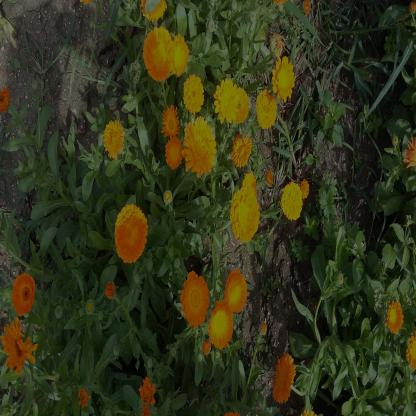marigold: (114, 201, 148, 265), (1, 316, 38, 374), (183, 115, 217, 178), (179, 270, 209, 327), (143, 26, 173, 82), (230, 188, 260, 243), (272, 352, 296, 404), (213, 77, 239, 124), (208, 299, 232, 348), (271, 56, 296, 102), (224, 268, 247, 314), (11, 273, 35, 316), (103, 119, 125, 160), (280, 180, 302, 221), (255, 90, 277, 130), (182, 73, 204, 113), (171, 32, 188, 78), (231, 131, 251, 169), (161, 102, 180, 138), (385, 299, 404, 335), (139, 0, 167, 24), (164, 135, 183, 170), (232, 84, 249, 122), (241, 172, 257, 202), (298, 174, 310, 200)
